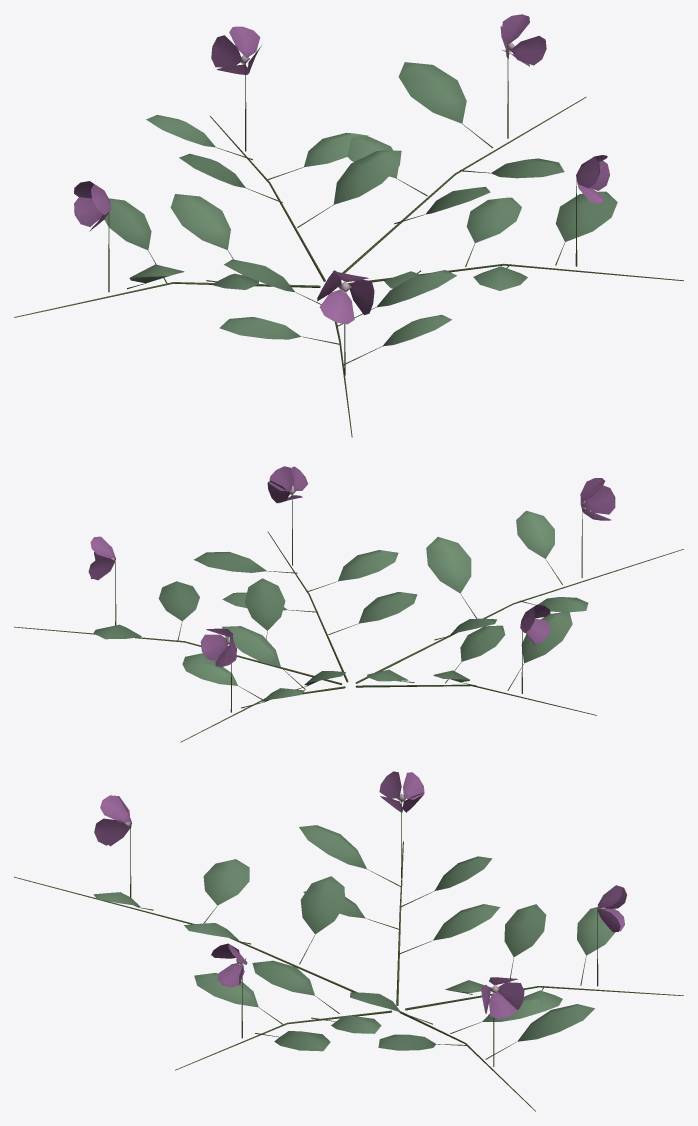
File: beach_pea.glb
The picture shows the model from 3 angles, top to bottom: view 1: azimuth 30°, elevation 25°; view 2: azimuth 150°, elevation 25°; view 3: azimuth 270°, elevation 25°; orthographic projection. The views are drawn at different scales.
Parts seen in each view (by area): view 1: beach_pea; view 2: beach_pea; view 3: beach_pea.
Boxes of the visible parts, left/top/right/bottom form: beach_pea: left=14, top=14, right=683, bottom=437; beach_pea: left=14, top=466, right=683, bottom=742; beach_pea: left=14, top=771, right=683, bottom=1111.
Bounding box in the file's own units: 0.9803 × 0.2475 × 1.
